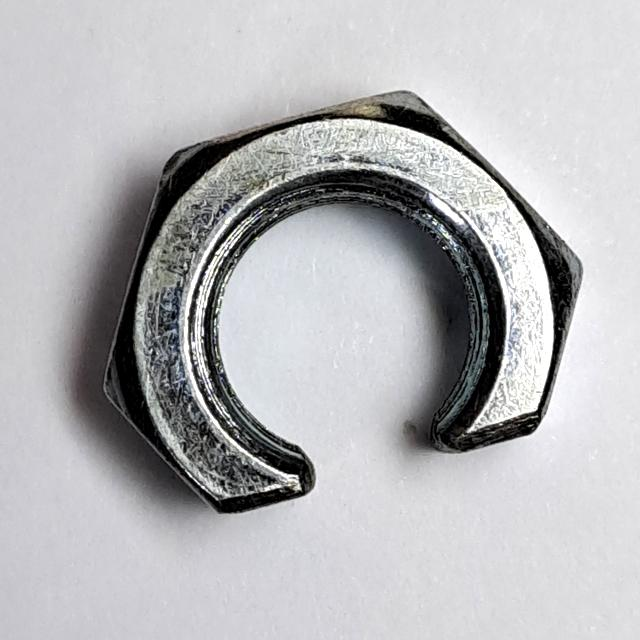Fracture: (92, 68, 594, 523)
